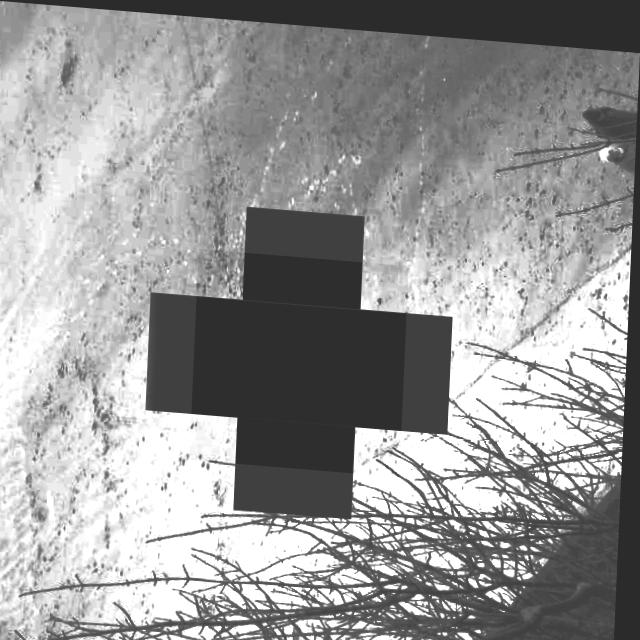qr_code: (194, 244, 411, 469)
